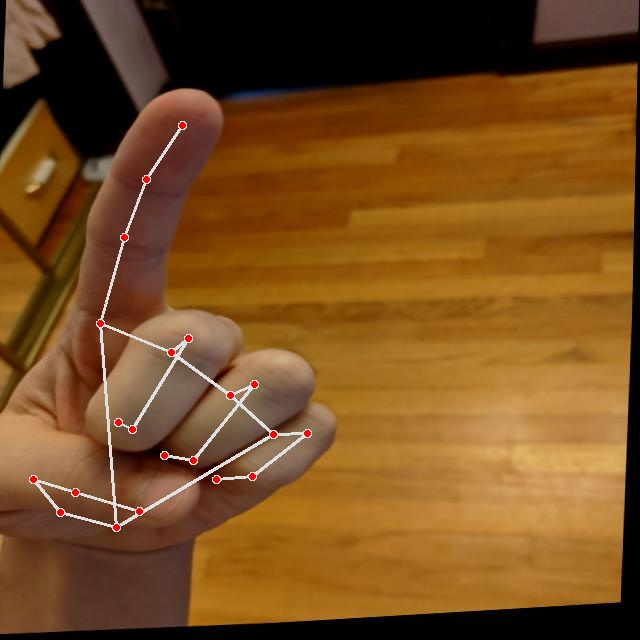D: (0, 75, 358, 578)
